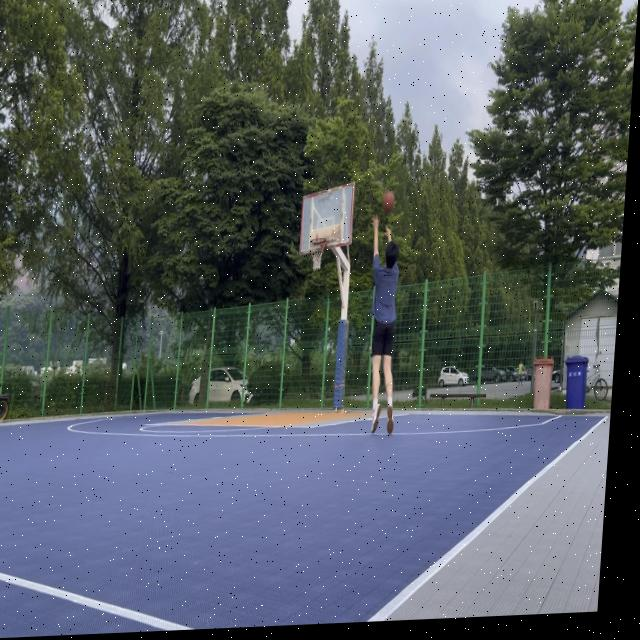basketball: (380, 188, 396, 215)
hoop: (308, 237, 327, 272)
